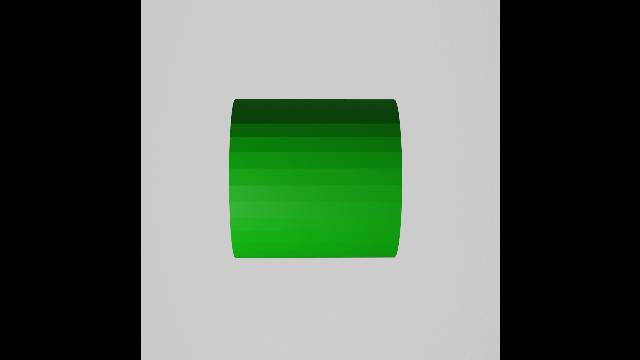Cylinder: (226, 87, 410, 274)
